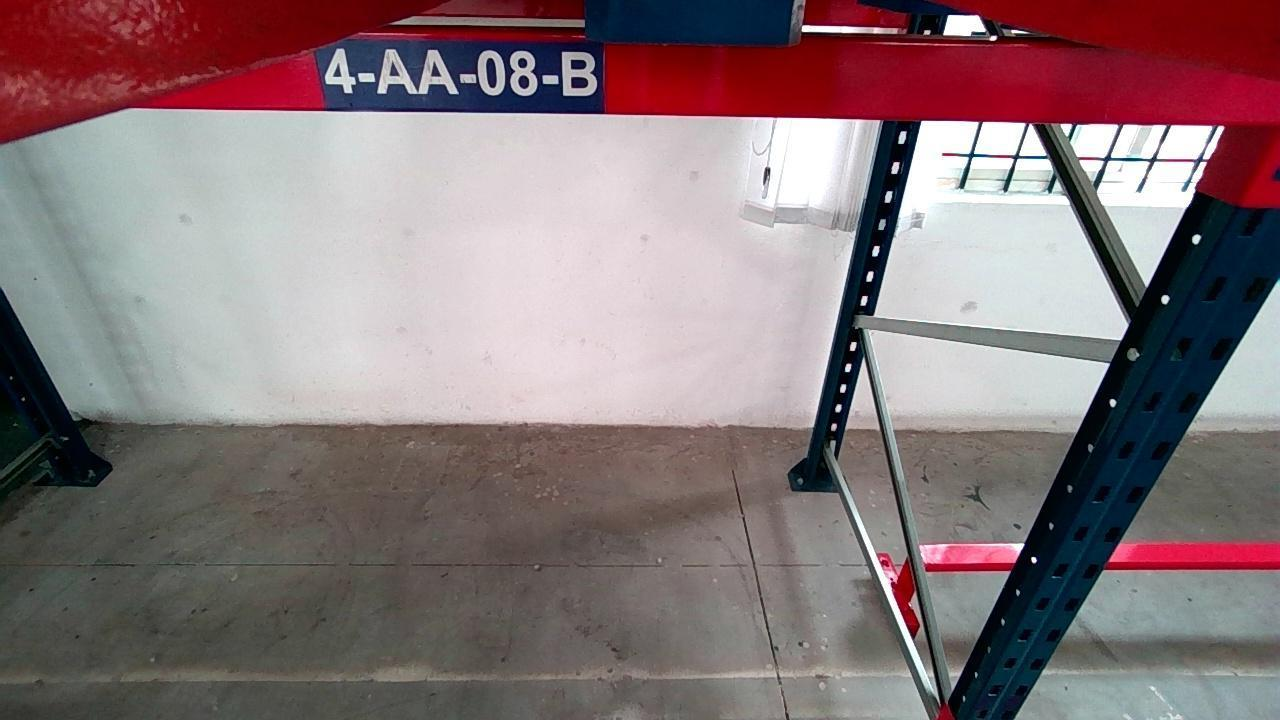h_rack: (128, 32, 1280, 121)
